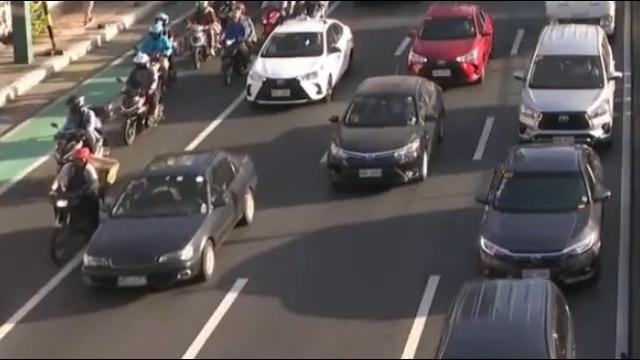car: (76, 150, 262, 298), (473, 142, 615, 292), (324, 74, 456, 195), (512, 20, 625, 143), (433, 278, 594, 360), (243, 14, 356, 107), (404, 0, 499, 89)
motorcycle: (49, 150, 108, 263), (115, 54, 166, 146), (51, 97, 107, 179), (220, 4, 258, 89), (133, 14, 178, 85), (182, 3, 220, 70), (257, 0, 294, 33)
